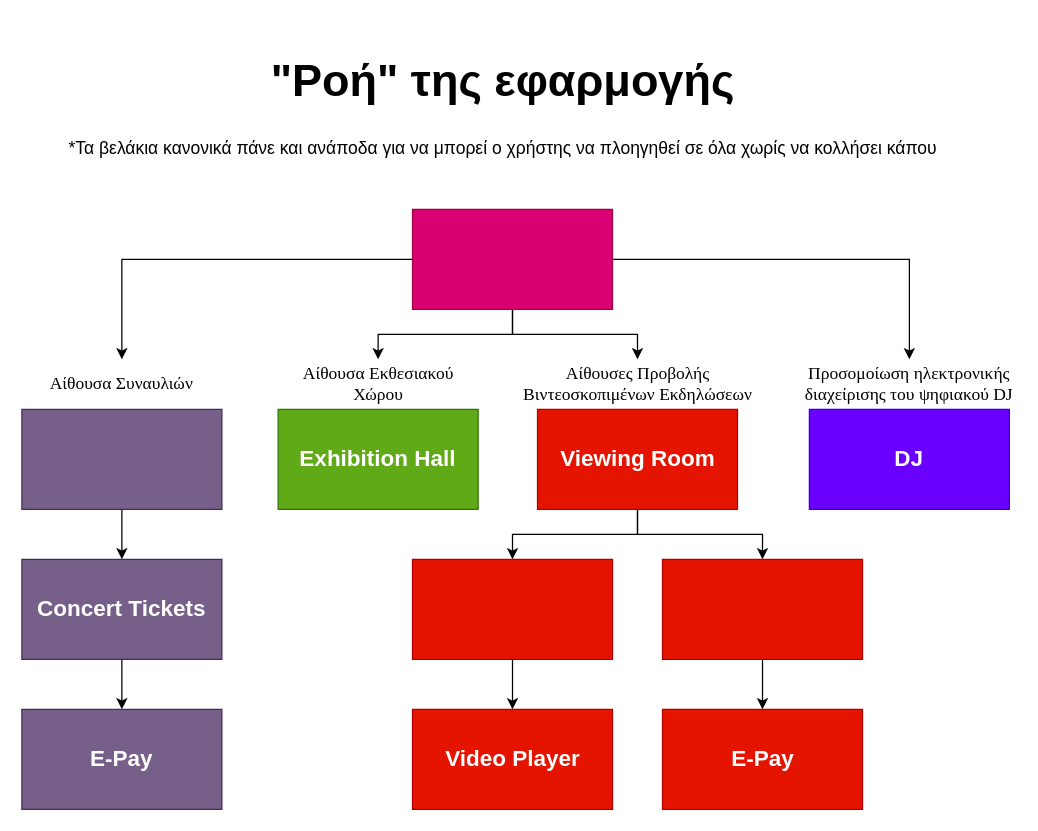
The diagram is 1038 pixels wide and 831 high, and some of its shapes have lost their labels. Each missing label, with the centre of its shape:
"Food / Drink Order" goes at point (761, 608).
"Main Menu" goes at point (511, 258).
"Personal Artist Hall" goes at point (511, 608).
"Upcoming Concerts" goes at point (121, 458).
